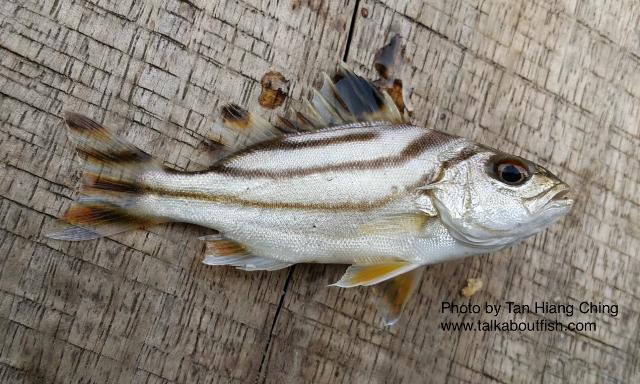Mulut: (540, 162, 588, 226)
Sirip Anal: (193, 225, 294, 277)
Sirip Dada: (354, 198, 442, 250)
Sirip Ekor: (34, 98, 160, 258)
Sirip Perut: (326, 258, 426, 330)
Sirip Punggung: (184, 57, 408, 180)
